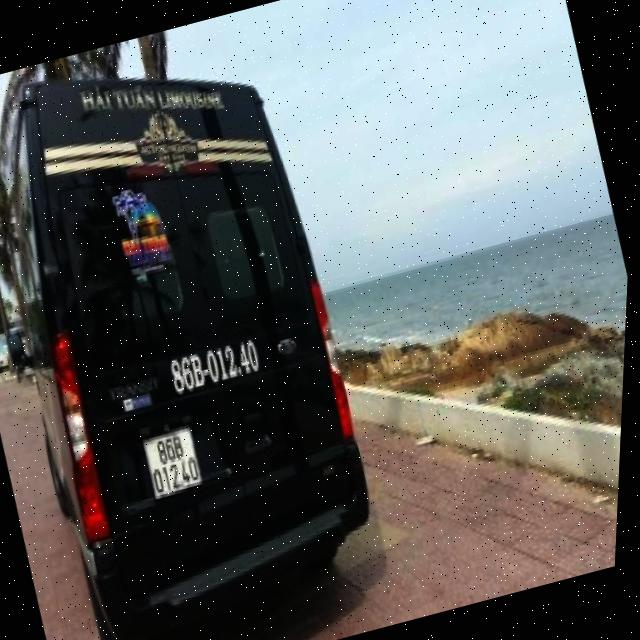car: (0, 55, 430, 640)
plate: (132, 421, 211, 502)
